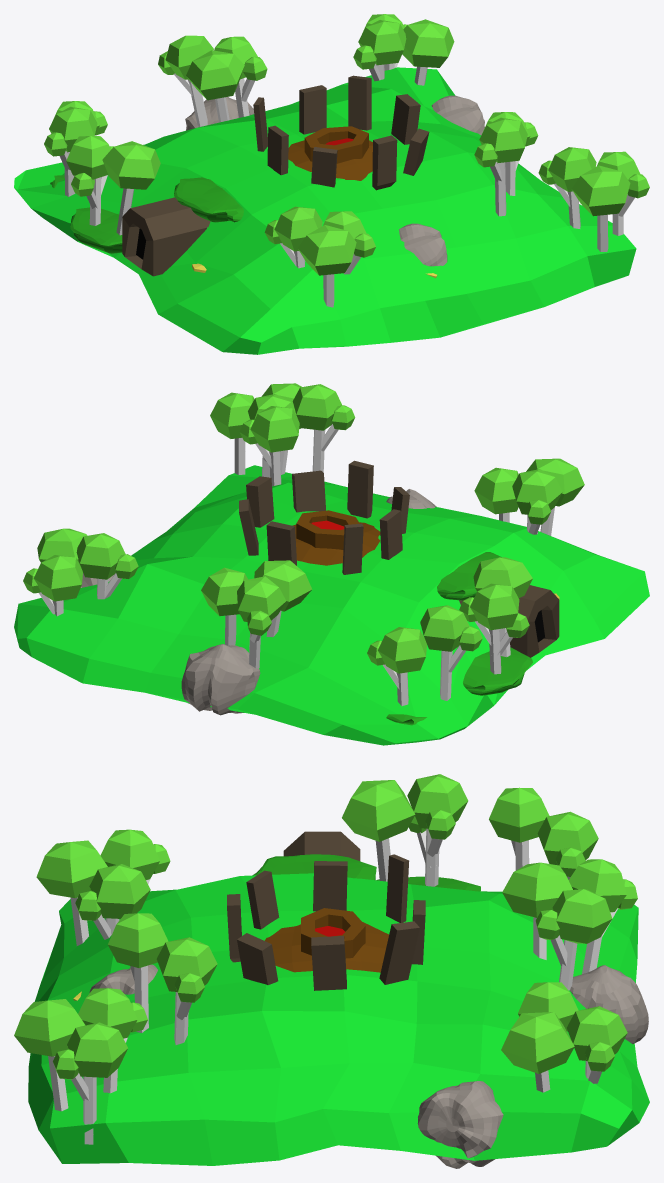
File: forest_birch_ritual.glb
3 views of the same model, one above another, from view 1: azimuth 30°, elevation 25°; view 2: azimuth 150°, elevation 25°; view 3: azimuth 270°, elevation 25° (orthographic). The views are drawn at different scales.
Parts seen in each view (by area): view 1: 0Hill, RitualStones, Entrance, Sphere.149, Sphere.134, Sphere.139, Sphere.123, bush.014, Sphere.128, bush.017, ritual pool, Sphere.125 (+14 smaller); view 2: 0Hill, RitualStones, rock2.008, Entrance, bush.017, Sphere.118, Sphere.142, Sphere.013, Sphere.131, Sphere.125, Sphere.009, Sphere.145 (+14 smaller); view 3: 0Hill, RitualStones, rock2.006, Sphere.128, Sphere.123, rock2.008, Sphere.134, Sphere.149, RitualSpace, Sphere.139, Sphere.137, Sphere.151 (+25 smaller).
Boxes of the visible parts, bbox=[...] form: 0Hill: bbox=[14, 67, 636, 354]; RitualStones: bbox=[253, 75, 429, 190]; Entrance: bbox=[122, 197, 210, 276]; Sphere.149: bbox=[571, 165, 630, 216]; Sphere.134: bbox=[298, 225, 356, 275]; Sphere.139: bbox=[186, 50, 244, 100]; Sphere.123: bbox=[102, 141, 160, 189]; bush.014: bbox=[174, 177, 243, 222]; Sphere.128: bbox=[402, 19, 454, 67]; bush.017: bbox=[70, 207, 122, 253]; ritual pool: bbox=[304, 126, 368, 163]; Sphere.125: bbox=[358, 20, 406, 65]; 0Hill: bbox=[14, 465, 649, 745]; RitualStones: bbox=[239, 460, 409, 574]; rock2.008: bbox=[181, 644, 260, 715]; Entrance: bbox=[459, 585, 559, 657]; bush.017: bbox=[463, 647, 532, 695]; Sphere.118: bbox=[470, 583, 519, 630]; Sphere.142: bbox=[250, 406, 299, 452]; Sphere.013: bbox=[378, 627, 426, 673]; Sphere.131: bbox=[33, 555, 82, 601]; Sphere.125: bbox=[76, 533, 125, 579]; Sphere.009: bbox=[420, 605, 469, 651]; Sphere.145: bbox=[292, 384, 341, 430]; 0Hill: bbox=[28, 873, 649, 1165]; RitualStones: bbox=[227, 854, 425, 990]; rock2.006: bbox=[417, 1081, 503, 1168]; Sphere.128: bbox=[501, 1012, 574, 1073]; Sphere.123: bbox=[342, 780, 415, 841]; rock2.008: bbox=[570, 965, 648, 1043]; Sphere.134: bbox=[36, 840, 107, 898]; Sphere.149: bbox=[14, 999, 85, 1056]; RitualSpace: bbox=[264, 922, 388, 972]; Sphere.139: bbox=[502, 862, 572, 917]; Sphere.137: bbox=[552, 889, 612, 943]; Sphere.151: bbox=[67, 1022, 127, 1077].
Bounding box in the file's own units: 9.24 × 3.25 × 9.42.
